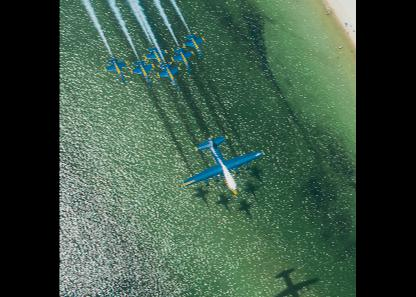Be200: (184, 132, 266, 192)
F15: (130, 57, 154, 86), (158, 59, 182, 88), (104, 53, 128, 81), (170, 44, 194, 72), (145, 44, 168, 70), (183, 32, 206, 58)
